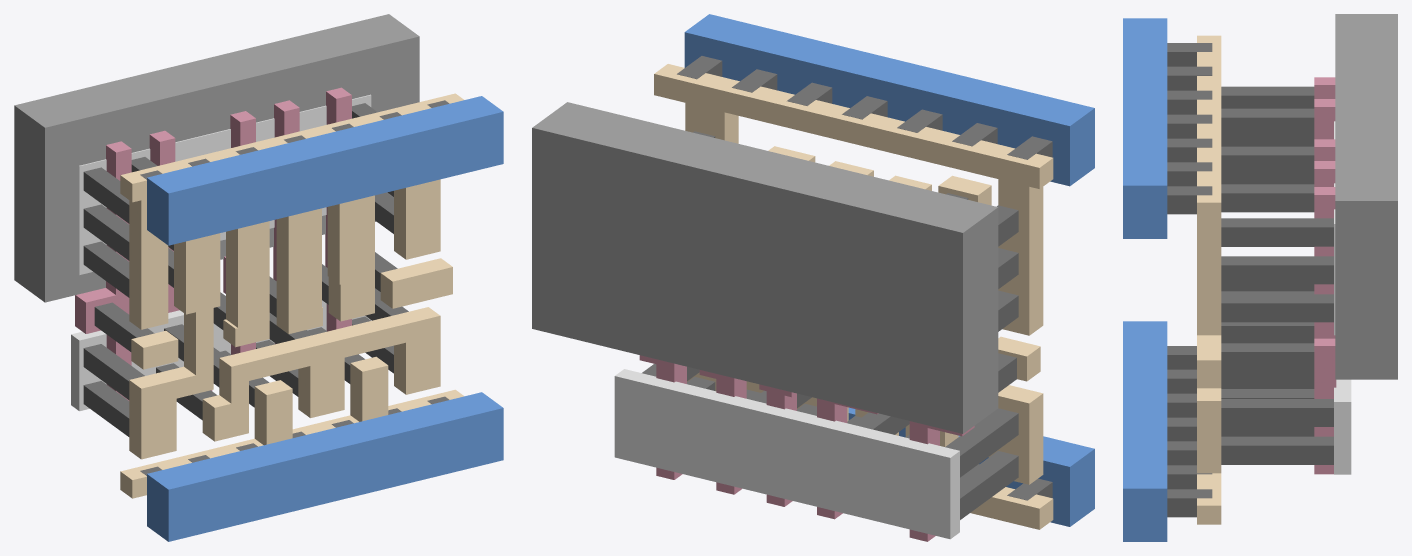
Rendered from sky130_fd_sc_hd__o41ai_1.gds.gltf.
The picture shows the model from 3 angles, left to right: view 1: azimuth 30°, elevation 25°; view 2: azimuth 150°, elevation 25°; view 3: azimuth 270°, elevation 25°; orthographic projection. The views are drawn at different scales.
Visible parts, largest first — view 1: sky130_fd_sc_hd__o41ai_1_li1, sky130_fd_sc_hd__o41ai_1_met1, sky130_fd_sc_hd__o41ai_1_nwell, sky130_fd_sc_hd__o41ai_1_licon, sky130_fd_sc_hd__o41ai_1_poly, sky130_fd_sc_hd__o41ai_1_diff, sky130_fd_sc_hd__o41ai_1_mcon; view 2: sky130_fd_sc_hd__o41ai_1_nwell, sky130_fd_sc_hd__o41ai_1_diff, sky130_fd_sc_hd__o41ai_1_li1, sky130_fd_sc_hd__o41ai_1_met1, sky130_fd_sc_hd__o41ai_1_licon, sky130_fd_sc_hd__o41ai_1_mcon, sky130_fd_sc_hd__o41ai_1_poly; view 3: sky130_fd_sc_hd__o41ai_1_licon, sky130_fd_sc_hd__o41ai_1_nwell, sky130_fd_sc_hd__o41ai_1_met1, sky130_fd_sc_hd__o41ai_1_mcon, sky130_fd_sc_hd__o41ai_1_li1, sky130_fd_sc_hd__o41ai_1_poly, sky130_fd_sc_hd__o41ai_1_diff.
Part boxes in pixels (x1=…): sky130_fd_sc_hd__o41ai_1_li1: x1=120, y1=93, x2=463, y2=498; sky130_fd_sc_hd__o41ai_1_met1: x1=147, y1=96, x2=503, y2=541; sky130_fd_sc_hd__o41ai_1_nwell: x1=14, y1=14, x2=419, y2=302; sky130_fd_sc_hd__o41ai_1_licon: x1=83, y1=103, x2=408, y2=436; sky130_fd_sc_hd__o41ai_1_poly: x1=75, y1=87, x2=351, y2=400; sky130_fd_sc_hd__o41ai_1_diff: x1=71, y1=94, x2=371, y2=411; sky130_fd_sc_hd__o41ai_1_mcon: x1=140, y1=100, x2=449, y2=475; sky130_fd_sc_hd__o41ai_1_nwell: x1=532, y1=102, x2=998, y2=433; sky130_fd_sc_hd__o41ai_1_diff: x1=614, y1=369, x2=959, y2=539; sky130_fd_sc_hd__o41ai_1_li1: x1=654, y1=64, x2=1053, y2=529; sky130_fd_sc_hd__o41ai_1_met1: x1=684, y1=14, x2=1094, y2=526; sky130_fd_sc_hd__o41ai_1_licon: x1=642, y1=131, x2=1018, y2=519; sky130_fd_sc_hd__o41ai_1_mcon: x1=677, y1=56, x2=1052, y2=500; sky130_fd_sc_hd__o41ai_1_poly: x1=639, y1=355, x2=974, y2=541; sky130_fd_sc_hd__o41ai_1_licon: x1=1221, y1=86, x2=1333, y2=464; sky130_fd_sc_hd__o41ai_1_nwell: x1=1335, y1=14, x2=1397, y2=379; sky130_fd_sc_hd__o41ai_1_met1: x1=1123, y1=18, x2=1167, y2=541; sky130_fd_sc_hd__o41ai_1_mcon: x1=1167, y1=43, x2=1212, y2=517; sky130_fd_sc_hd__o41ai_1_li1: x1=1197, y1=35, x2=1221, y2=524; sky130_fd_sc_hd__o41ai_1_poly: x1=1314, y1=77, x2=1336, y2=474; sky130_fd_sc_hd__o41ai_1_diff: x1=1334, y1=121, x2=1351, y2=474.
Size of the model in its own units: 3.6 by 3.2 by 2.24.
